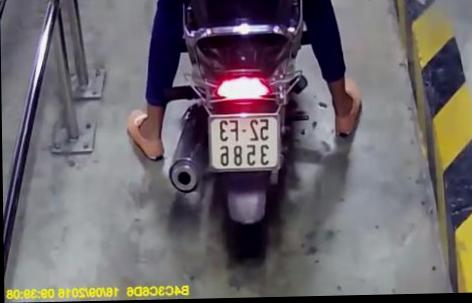License_Plate: (202, 109, 291, 181)
